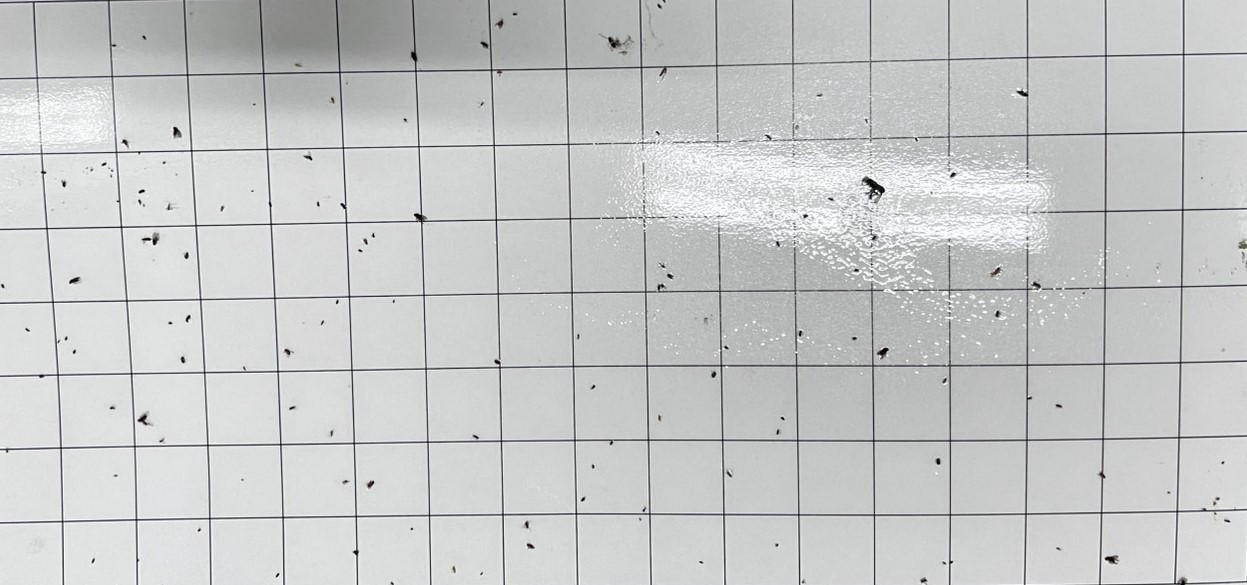test: (858, 171, 889, 208), (989, 264, 1006, 281), (605, 34, 622, 51), (135, 411, 152, 427), (1103, 552, 1121, 567), (411, 211, 428, 225), (1016, 85, 1031, 100), (1030, 279, 1043, 293), (877, 346, 890, 360), (171, 125, 184, 139), (494, 18, 507, 31), (409, 49, 420, 64), (152, 231, 162, 247), (120, 137, 132, 150), (479, 39, 491, 52), (658, 66, 669, 80), (68, 275, 82, 286), (164, 201, 176, 213), (364, 478, 377, 489), (301, 152, 315, 162), (655, 282, 667, 293), (338, 200, 349, 212), (140, 234, 153, 244), (763, 130, 774, 141), (725, 468, 735, 480), (522, 519, 532, 531), (1097, 469, 1107, 481), (184, 312, 193, 325), (993, 309, 1003, 320), (948, 170, 959, 180), (791, 122, 801, 133), (471, 432, 482, 442), (266, 199, 276, 210), (510, 9, 520, 20), (495, 66, 505, 77), (655, 1, 665, 12), (825, 195, 837, 204), (282, 347, 294, 356), (940, 376, 950, 386), (912, 135, 922, 145), (815, 91, 825, 101), (1223, 516, 1233, 526), (709, 369, 718, 380), (525, 542, 536, 551), (60, 178, 69, 189), (328, 95, 337, 106), (1178, 576, 1189, 585), (871, 232, 879, 244), (219, 204, 227, 216), (934, 456, 943, 466), (800, 211, 810, 220), (658, 260, 668, 269), (919, 575, 928, 585), (107, 403, 117, 412), (178, 355, 187, 365), (182, 251, 191, 261), (136, 197, 145, 207), (361, 236, 370, 246), (294, 61, 304, 70), (493, 358, 504, 366), (38, 168, 49, 176), (314, 198, 322, 209), (654, 128, 663, 137), (655, 413, 664, 422), (352, 548, 361, 557), (157, 435, 166, 444), (137, 186, 146, 195), (1024, 394, 1034, 402), (665, 272, 675, 280), (862, 115, 870, 125), (590, 383, 598, 393), (608, 437, 616, 447), (287, 403, 295, 413), (328, 429, 336, 439), (37, 372, 47, 380), (478, 99, 486, 109), (1054, 402, 1063, 410), (797, 329, 805, 338), (774, 239, 783, 247), (724, 343, 732, 352), (579, 494, 587, 503), (451, 565, 459, 574), (273, 570, 282, 578), (23, 325, 31, 334), (852, 267, 862, 274), (141, 32, 148, 42), (851, 335, 859, 343), (773, 427, 781, 435), (341, 477, 349, 485), (697, 558, 705, 566), (940, 559, 948, 567), (195, 526, 203, 534), (166, 319, 174, 327), (319, 319, 327, 327), (402, 116, 410, 124), (4, 447, 12, 455), (112, 472, 120, 480), (249, 187, 257, 195), (641, 505, 648, 514), (241, 364, 248, 373), (334, 298, 341, 307), (576, 332, 582, 342), (779, 415, 787, 422), (636, 516, 644, 523), (774, 542, 782, 549), (89, 557, 97, 564), (70, 348, 78, 355), (370, 231, 377, 239), (357, 246, 365, 253), (100, 161, 108, 168), (1055, 544, 1062, 552), (1220, 459, 1227, 467), (1202, 506, 1209, 514), (115, 197, 122, 205), (799, 578, 808, 584), (590, 463, 597, 470), (63, 335, 70, 342), (55, 338, 62, 345), (948, 559, 956, 565), (1210, 500, 1218, 506), (409, 526, 416, 532), (111, 42, 118, 48), (161, 159, 167, 166), (252, 101, 258, 108), (1215, 494, 1221, 501), (478, 570, 484, 576), (239, 476, 245, 482), (1166, 489, 1172, 495), (388, 580, 395, 585), (1, 284, 6, 291), (391, 298, 396, 305), (108, 173, 113, 180), (137, 150, 142, 156), (109, 168, 115, 173), (136, 558, 141, 563), (89, 168, 95, 172)
